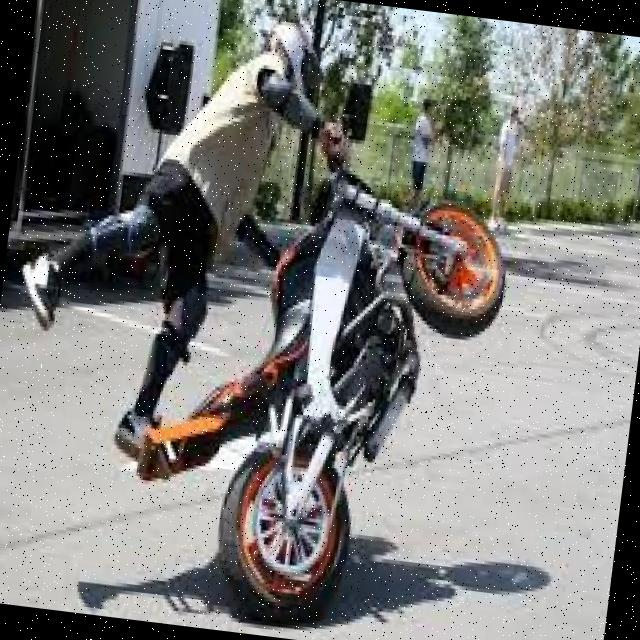Wheeling: (162, 11, 533, 640)
